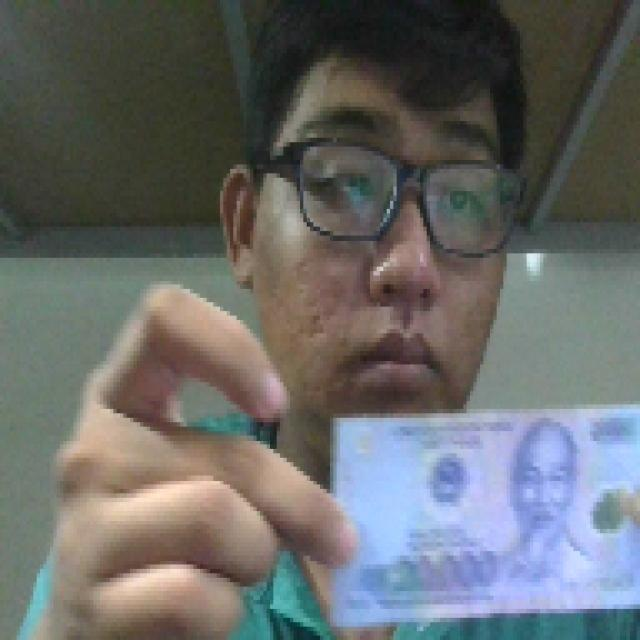20 000 VND: (323, 400, 637, 631)
